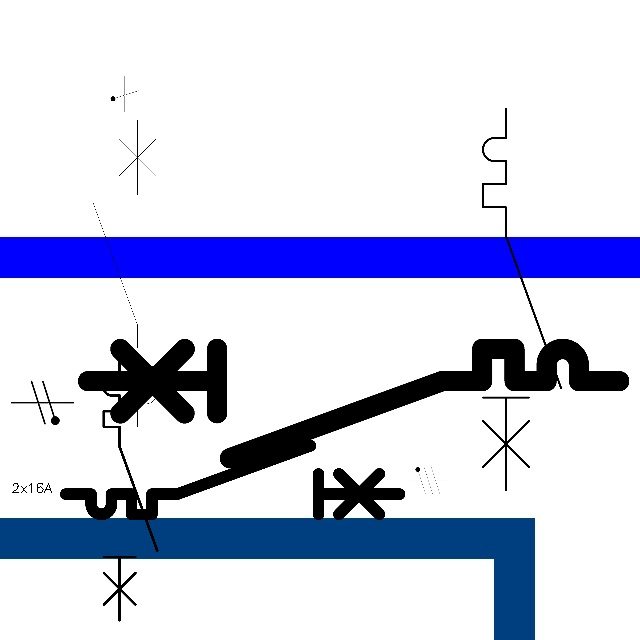interruptor_termomagnetico: (74, 335, 633, 472), (473, 99, 571, 500), (57, 437, 408, 523), (85, 112, 164, 435), (97, 353, 164, 627)
